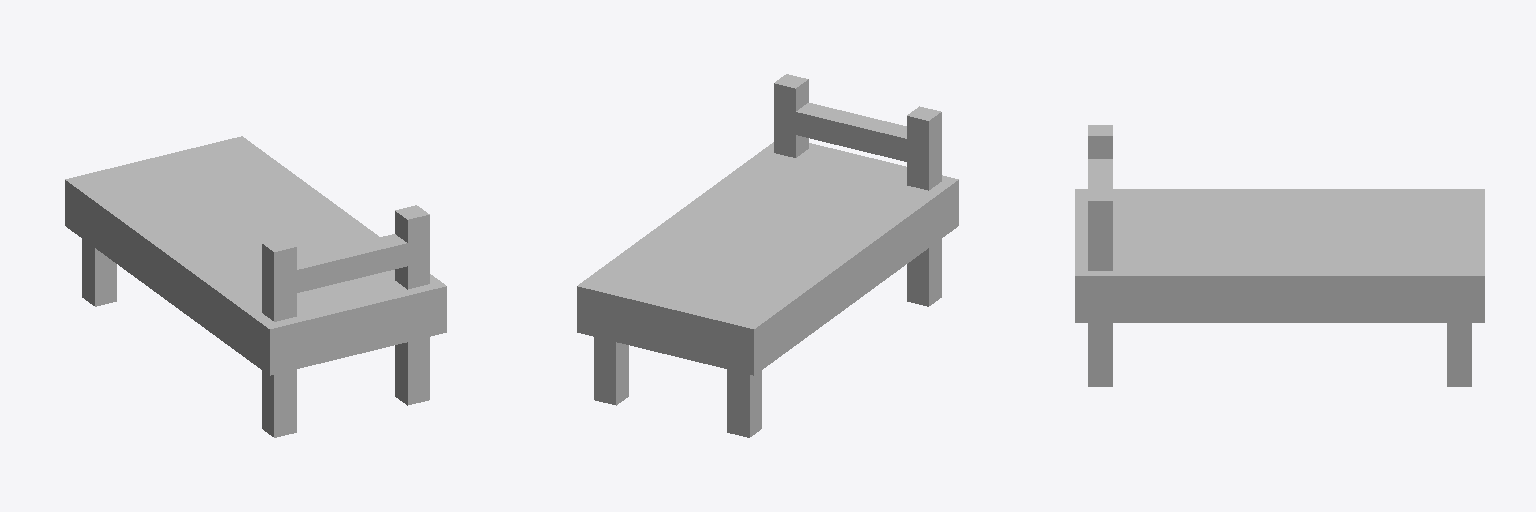
Rendered from bedz_simple_bed.obj.
3 views of the same model, side by side, from view 1: azimuth 30°, elevation 25°; view 2: azimuth 150°, elevation 25°; view 3: azimuth 270°, elevation 25° (orthographic).
Visible parts, largest first — view 1: bed_converted_out; view 2: bed_converted_out; view 3: bed_converted_out.
Boxes of the visible parts, <box> form: bed_converted_out: <box>65,136,446,437</box>; bed_converted_out: <box>577,74,958,437</box>; bed_converted_out: <box>1075,125,1484,386</box>.
Size of the model in its own units: 1 by 1 by 2.